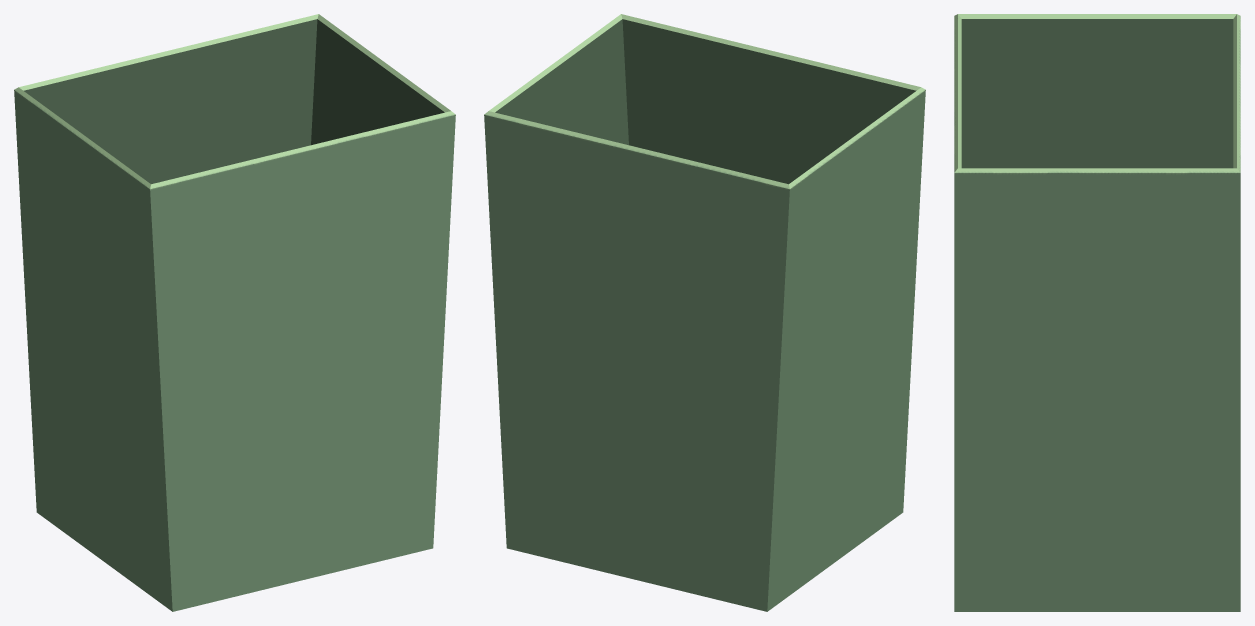
Rendered from Trash_Bin_Green.fbx.
3 renders of one model, left to right at view 1: azimuth 30°, elevation 25°; view 2: azimuth 150°, elevation 25°; view 3: azimuth 270°, elevation 25°, orthographic. The views are drawn at different scales.
Visible parts, largest first — view 1: Cube.003; view 2: Cube.003; view 3: Cube.003.
Part boxes in pixels (x1,y1,x2,y2): Cube.003: (14,14,455,611); Cube.003: (484,14,925,611); Cube.003: (954,14,1240,611).
Size of the model in its own units: 25.97 by 35 by 20.
